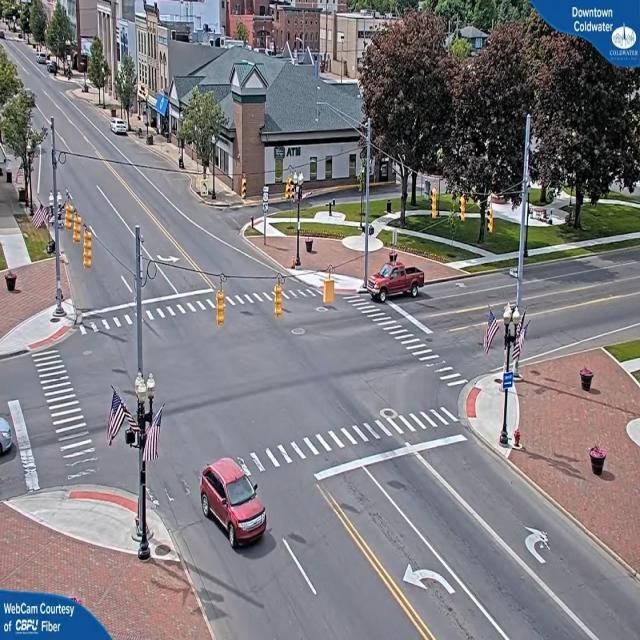car: (198, 458, 268, 550), (367, 264, 426, 302), (112, 121, 130, 138)
